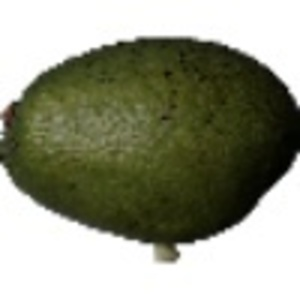abacate: (2, 33, 297, 245)
